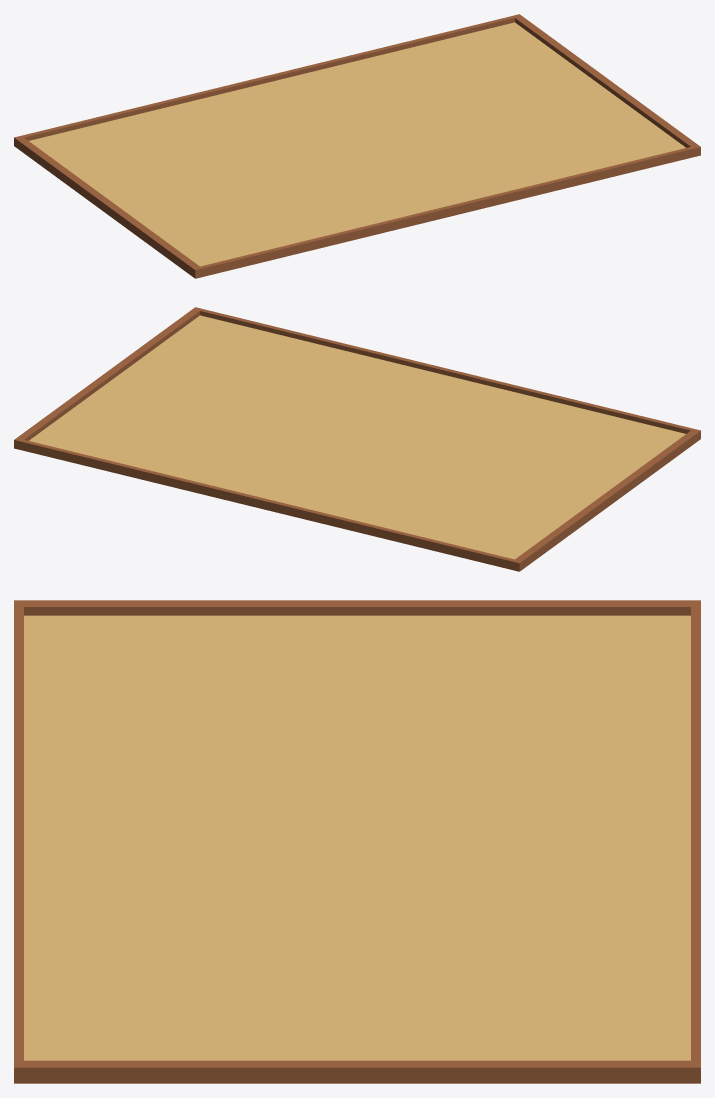
The model's file is Play Park.fbx.
The picture shows the model from 3 angles, top to bottom: view 1: azimuth 30°, elevation 25°; view 2: azimuth 150°, elevation 25°; view 3: azimuth 270°, elevation 25°; orthographic projection. The views are drawn at different scales.
Visible parts, largest first — view 1: Sand Pit, Sand Pit Rim; view 2: Sand Pit, Sand Pit Rim; view 3: Sand Pit, Sand Pit Rim.
Part boxes in pixels (x1,y1,x2,y2): Sand Pit: (29, 22, 685, 266); Sand Pit Rim: (14, 14, 700, 278); Sand Pit: (29, 315, 685, 559); Sand Pit Rim: (14, 307, 700, 571); Sand Pit: (24, 615, 690, 1060); Sand Pit Rim: (14, 600, 700, 1083).
Bounding box in the file's own units: 7725 × 125 × 4800.
